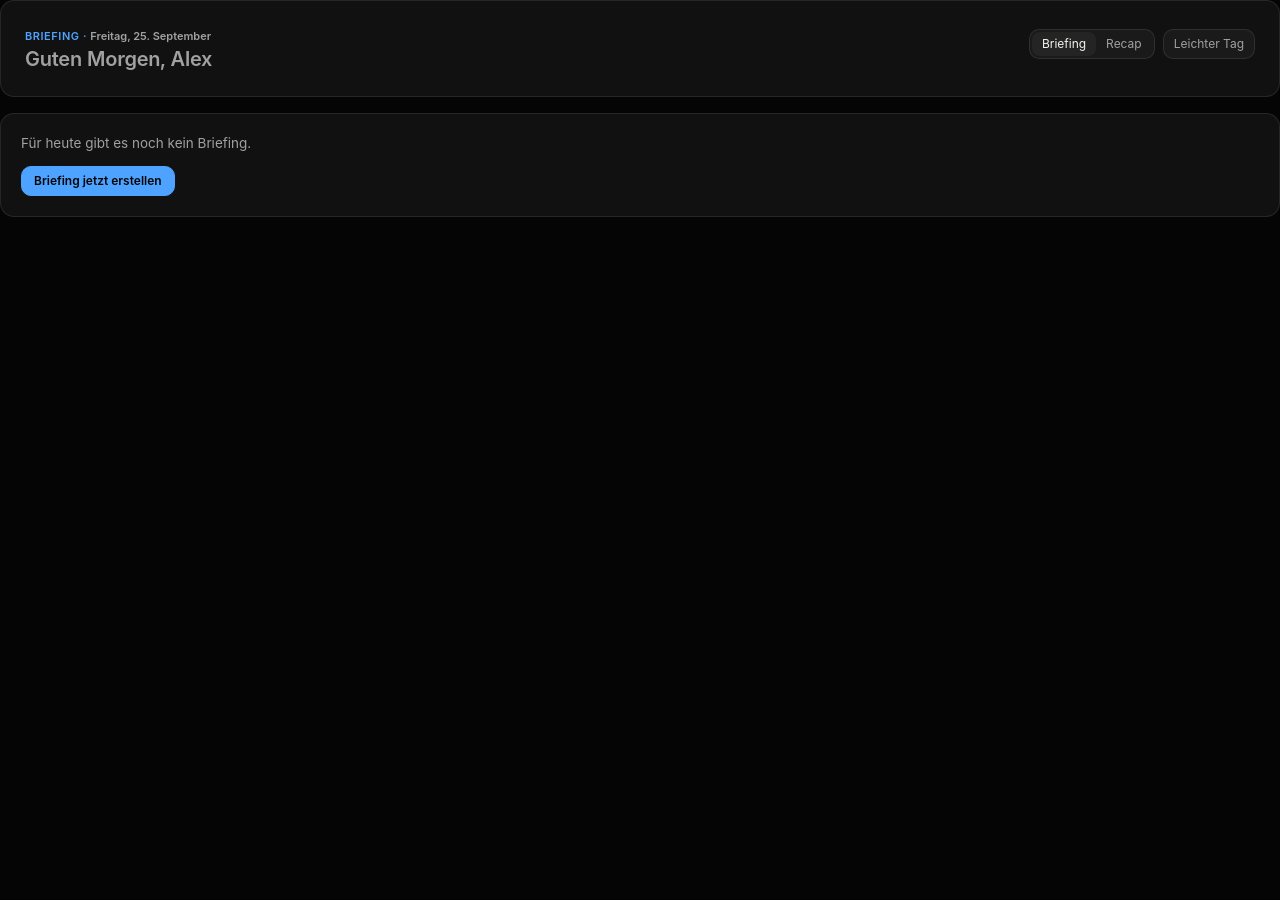
Test case: Briefing › ohne Bericht: ehrlicher Leerzustand mit „Briefing jetzt erstellen“
This screenshot has width=1280, height=900.
Click the button "Briefing jetzt erstellen": (98, 181) [21,166,175,196]
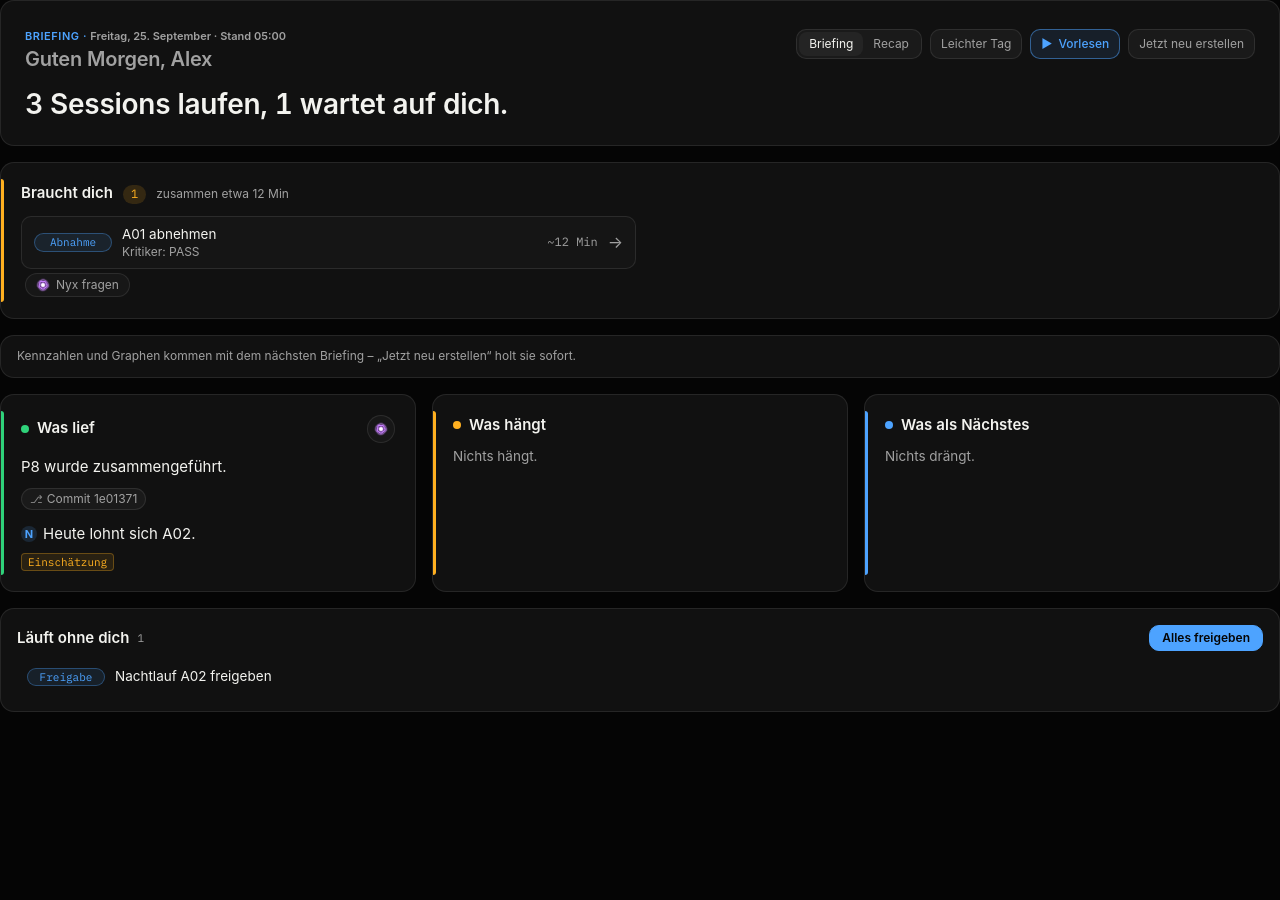
Expected: the text "3 Sessions laufen, 1 wartet auf dich." is shown, [25,87,508,121]
